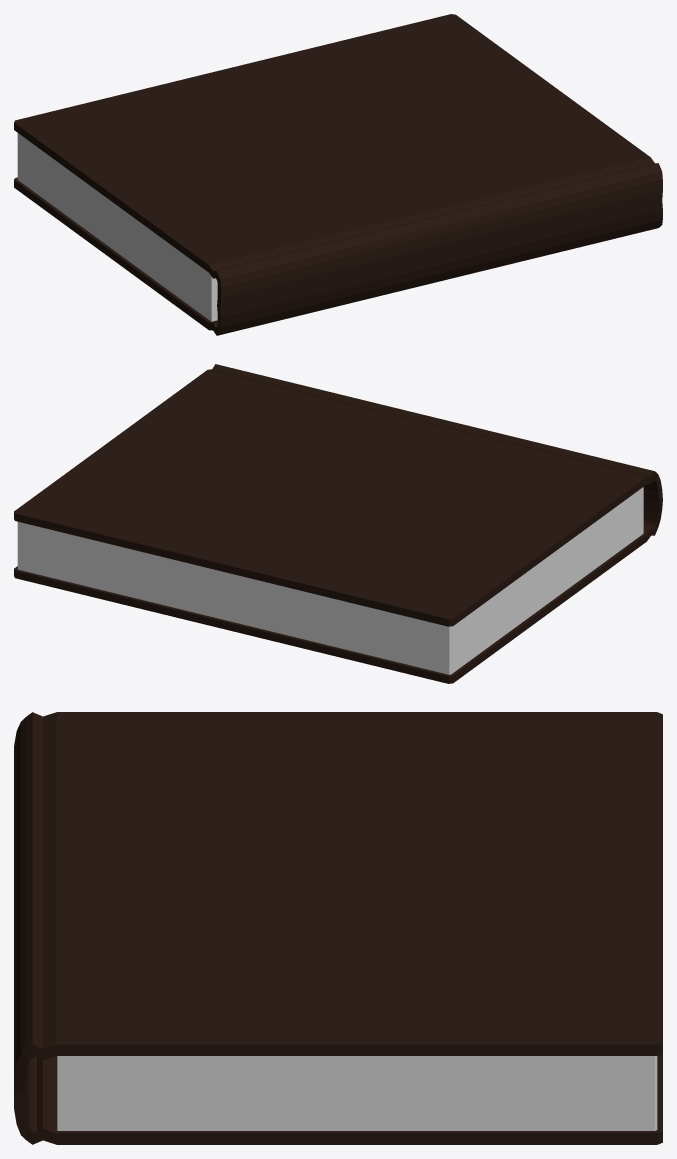
The model's file is Livro.fbx.
3 views of the same model, one above another, from view 1: azimuth 30°, elevation 25°; view 2: azimuth 150°, elevation 25°; view 3: azimuth 270°, elevation 25° (orthographic). The views are drawn at different scales.
Visible parts, largest first — view 1: LivroPuzzle.003; view 2: LivroPuzzle.003; view 3: LivroPuzzle.003.
Part boxes in pixels (left/top/right/bottom): LivroPuzzle.003: left=14, top=14, right=662, bottom=335; LivroPuzzle.003: left=14, top=364, right=662, bottom=683; LivroPuzzle.003: left=14, top=712, right=662, bottom=1144.
Size of the model in its own units: 30.27 by 4.24 by 24.85.
